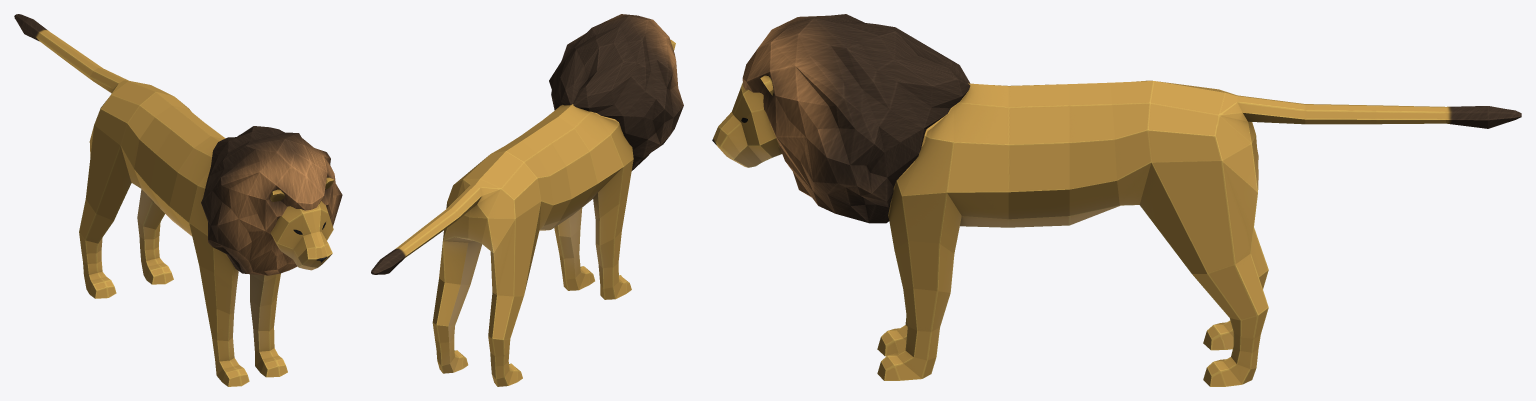
Rendered from lion.glb.
3 renders of one model, left to right at view 1: azimuth 30°, elevation 25°; view 2: azimuth 150°, elevation 25°; view 3: azimuth 270°, elevation 25°, orthographic. The views are drawn at different scales.
Parts seen in each view (by area): view 1: Lion_mesh; view 2: Lion_mesh; view 3: Lion_mesh.
Boxes of the visible parts, x1=… form: Lion_mesh: x1=14, y1=14, x2=342, y2=386; Lion_mesh: x1=371, y1=14, x2=683, y2=386; Lion_mesh: x1=712, y1=14, x2=1521, y2=386.
Bounding box in the file's own units: 0.6823 × 1.36 × 2.9.
Materials: 1 (1 with a texture image).
